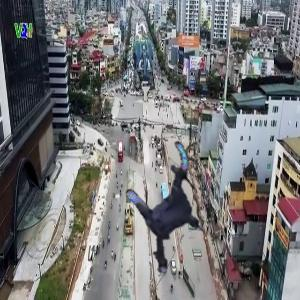drone: (108, 144, 226, 262)
